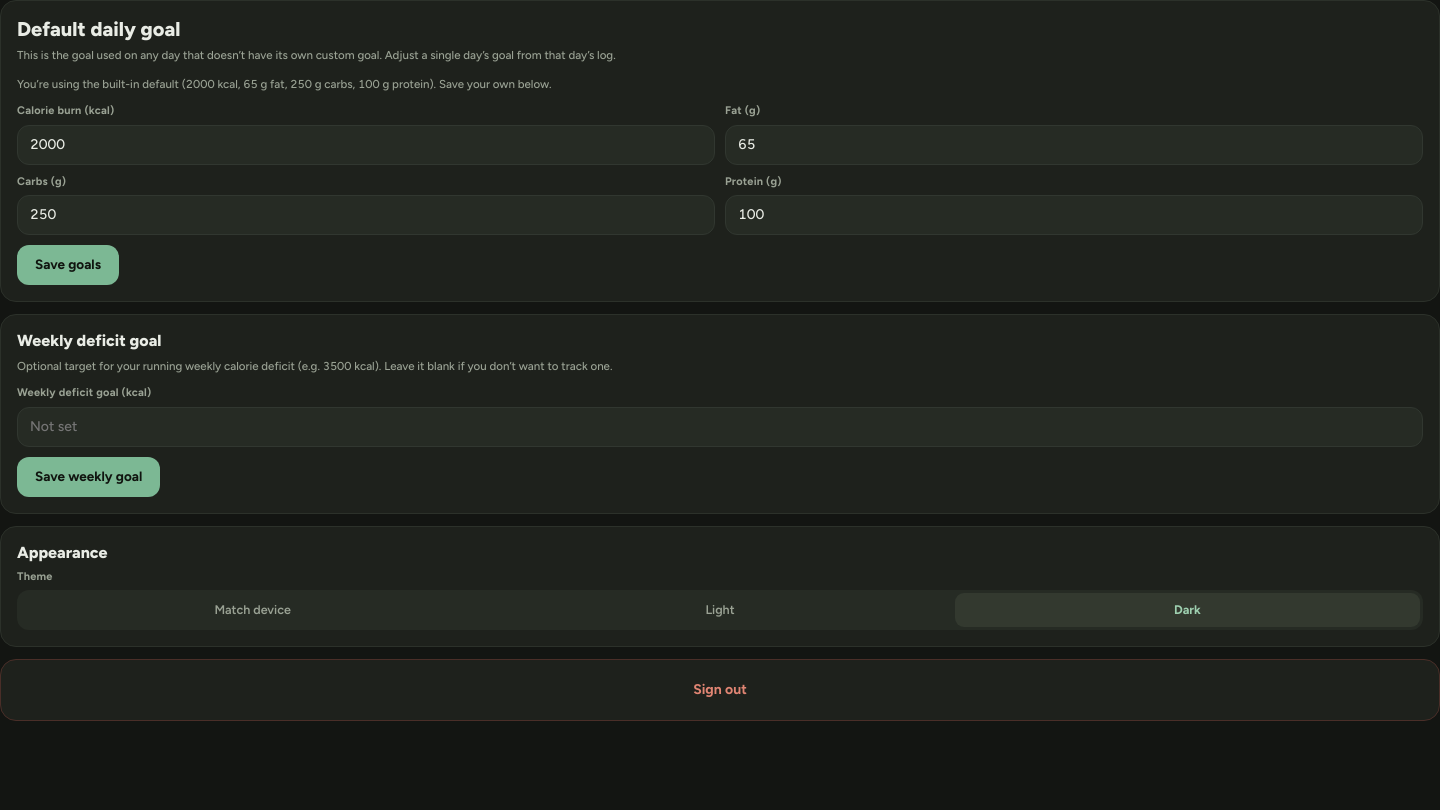
SettingsScreen weekly deficit goal › saves a valid weekly deficit goal
The width and height of the screenshot is (1440, 810).
Expected: the heading "Weekly deficit goal" is shown, [17,331,161,350]
Type "3500" into the field labelled "Weekly deficit goal (kcal)" at (720, 427), box [17,407,1423,447]
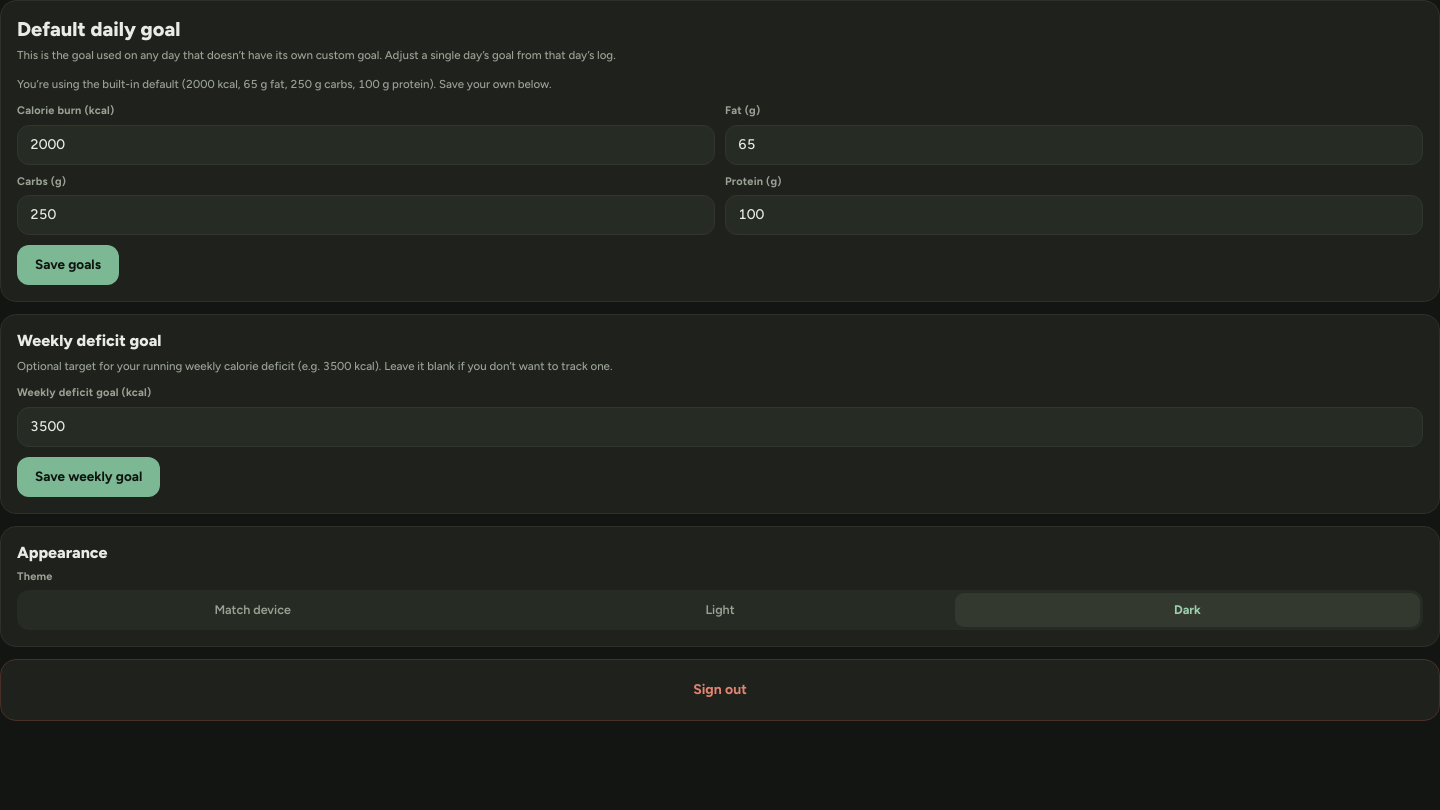
Click the button "Save weekly goal" at (89, 477), box [17,457,160,497]
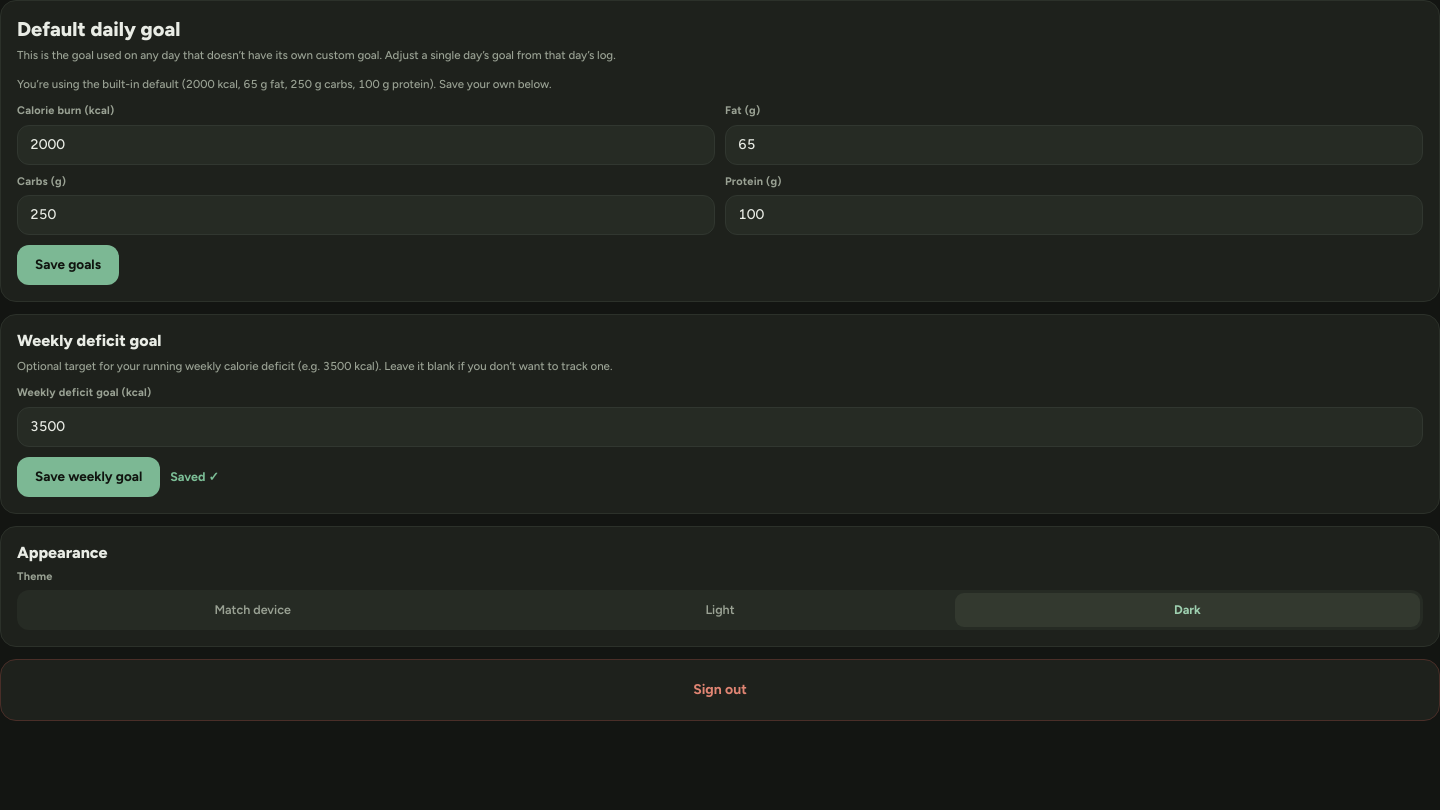
Expected: the text "Saved ✓" is shown, [170,468,219,486]
